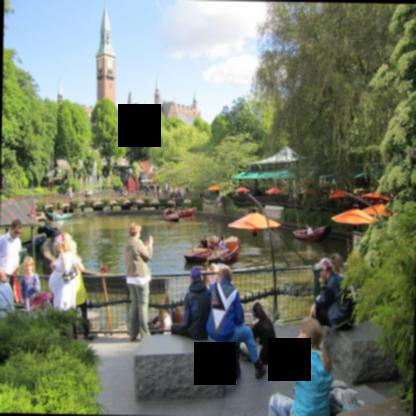handbag: (60, 256, 78, 283)
